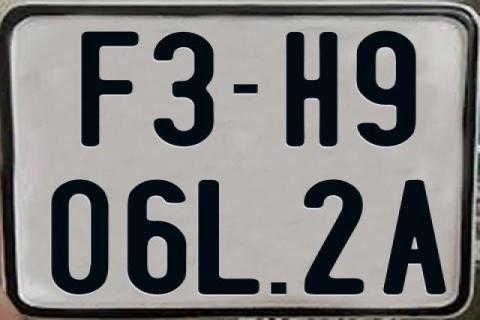0: (353, 29, 419, 149), (152, 29, 218, 145), (125, 178, 189, 294), (302, 178, 362, 298), (49, 178, 110, 294)
A: (382, 179, 450, 293)
F: (81, 31, 142, 150)
H: (286, 31, 340, 151)
L: (195, 179, 256, 295)
